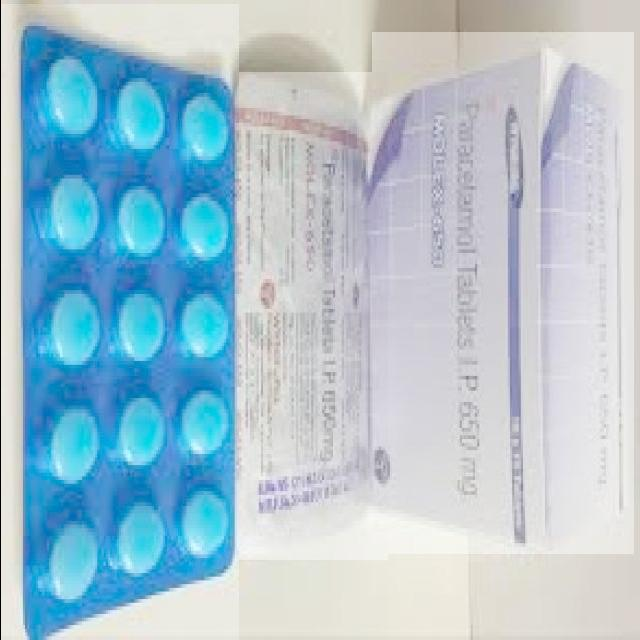authentic: (0, 4, 238, 640), (371, 32, 633, 554), (230, 72, 387, 560)
